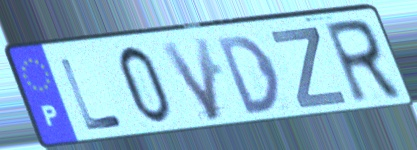0: (115, 42, 177, 131)
D: (213, 32, 285, 118)
L: (56, 55, 127, 133)
R: (319, 16, 407, 108)
V: (156, 34, 224, 125)
Z: (267, 24, 351, 111)
